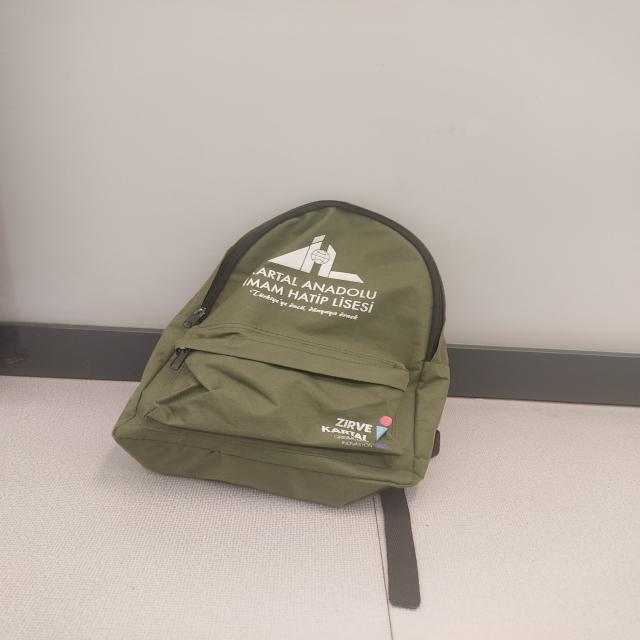bag: (111, 200, 461, 516)
